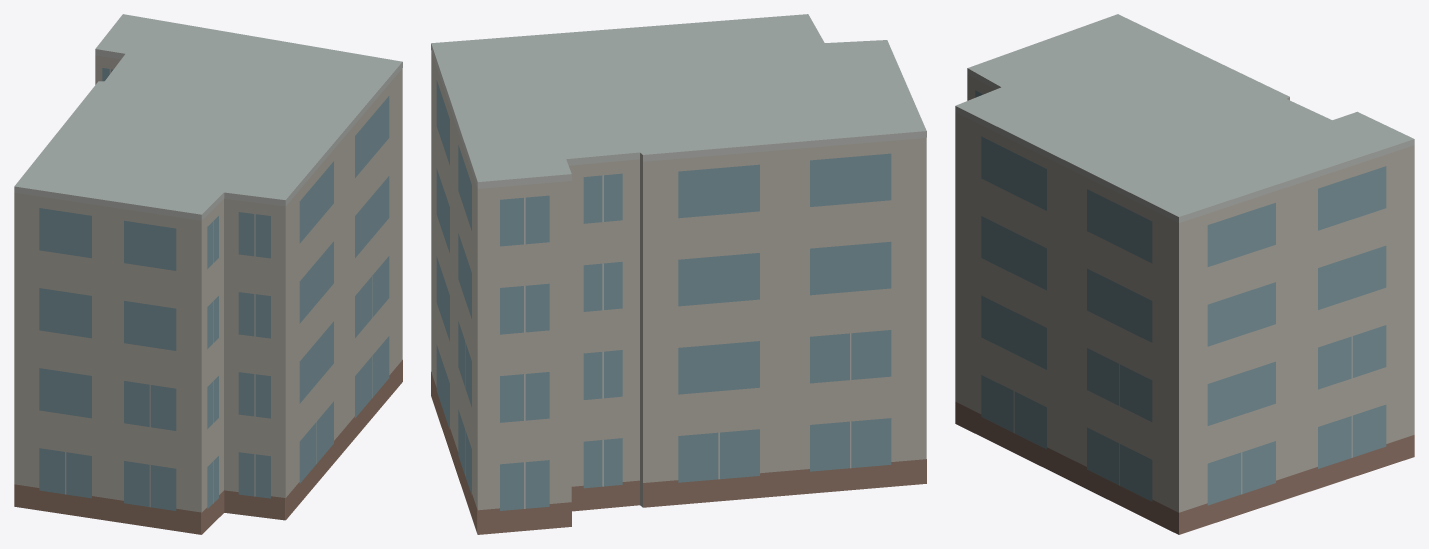
Rendered from survey-upis-32777929.glb.
The picture shows the model from 3 angles, left to right: view 1: azimuth 30°, elevation 25°; view 2: azimuth 150°, elevation 25°; view 3: azimuth 270°, elevation 25°; orthographic projection. The views are drawn at different scales.
Visible parts, largest first — view 1: survey-upis-32777929.tmp; view 2: survey-upis-32777929.tmp; view 3: survey-upis-32777929.tmp.
Boxes of the visible parts, <box> form: survey-upis-32777929.tmp: <box>14,14,402,534</box>; survey-upis-32777929.tmp: <box>431,14,926,534</box>; survey-upis-32777929.tmp: <box>955,14,1414,534</box>.
Size of the model in its own units: 17.41 by 12.7 by 16.65.
